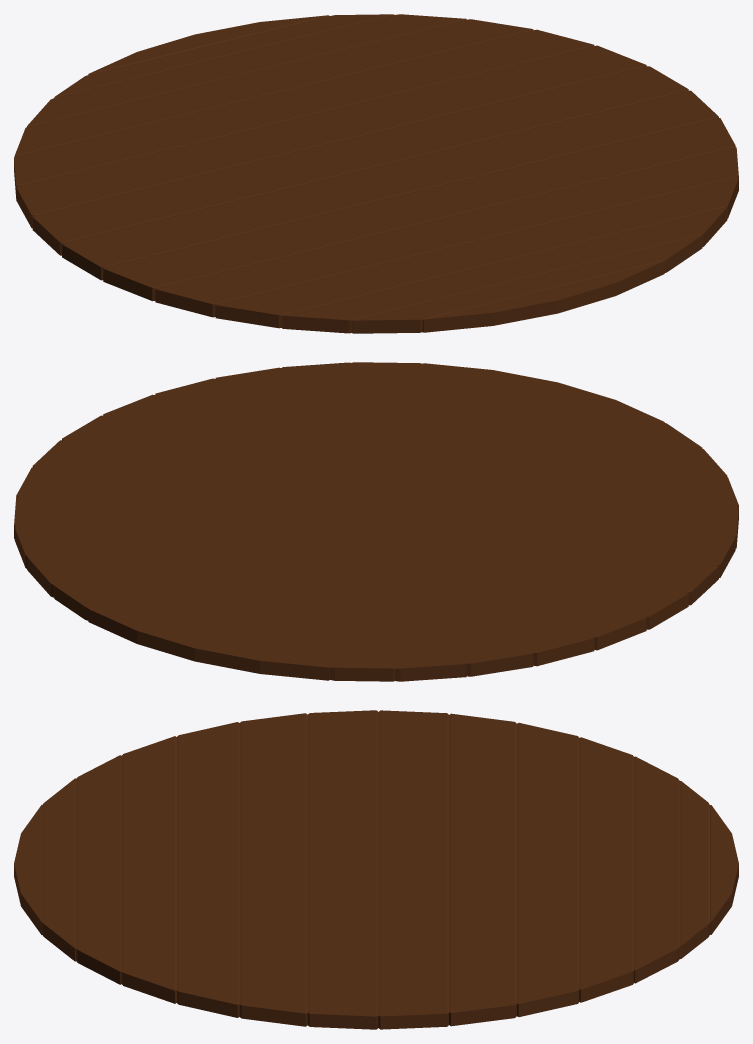
File: Table.fbx
The picture shows the model from 3 angles, top to bottom: view 1: azimuth 30°, elevation 25°; view 2: azimuth 150°, elevation 25°; view 3: azimuth 270°, elevation 25°; orthographic projection.
Parts seen in each view (by area): view 1: Table; view 2: Table; view 3: Table.
Boxes of the visible parts, x1,y1,x2,y2 form: Table: (14, 14, 738, 333); Table: (14, 362, 738, 681); Table: (14, 710, 738, 1029).
Size of the model in its own units: 500 by 10 by 500.
